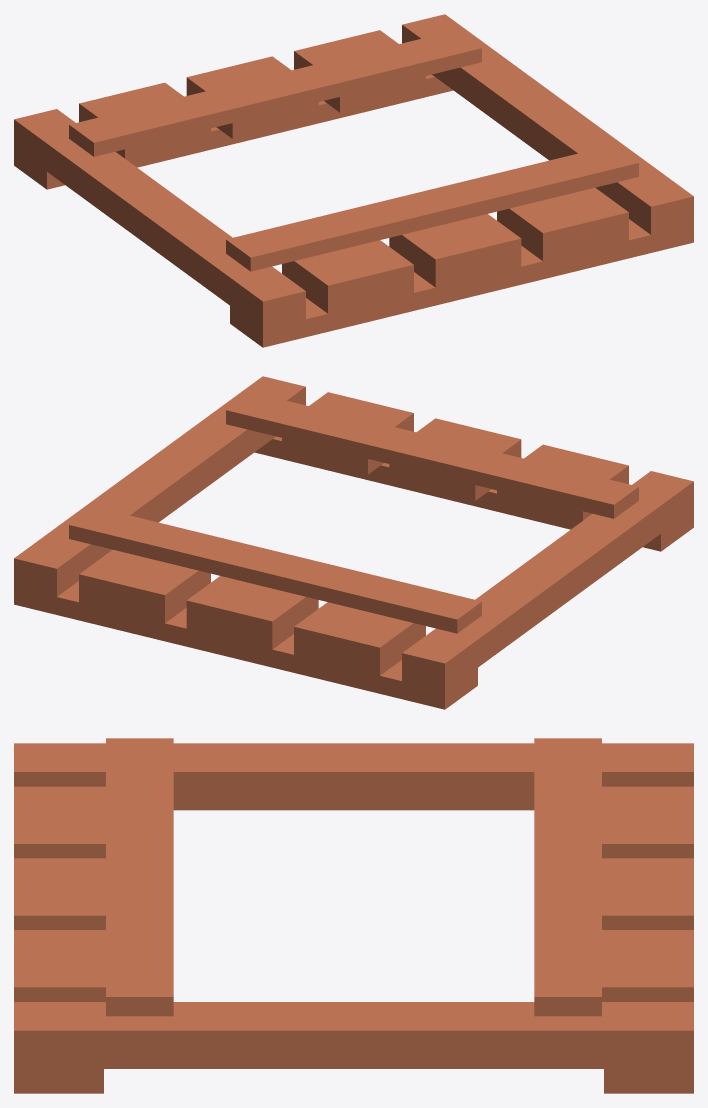
Rendered from floor-hole.obj.
3 views of the same model, one above another, from view 1: azimuth 30°, elevation 25°; view 2: azimuth 150°, elevation 25°; view 3: azimuth 270°, elevation 25° (orthographic). The views are drawn at different scales.
Bounding box in the file's own units: 0.5 × 0.0668 × 0.5.
